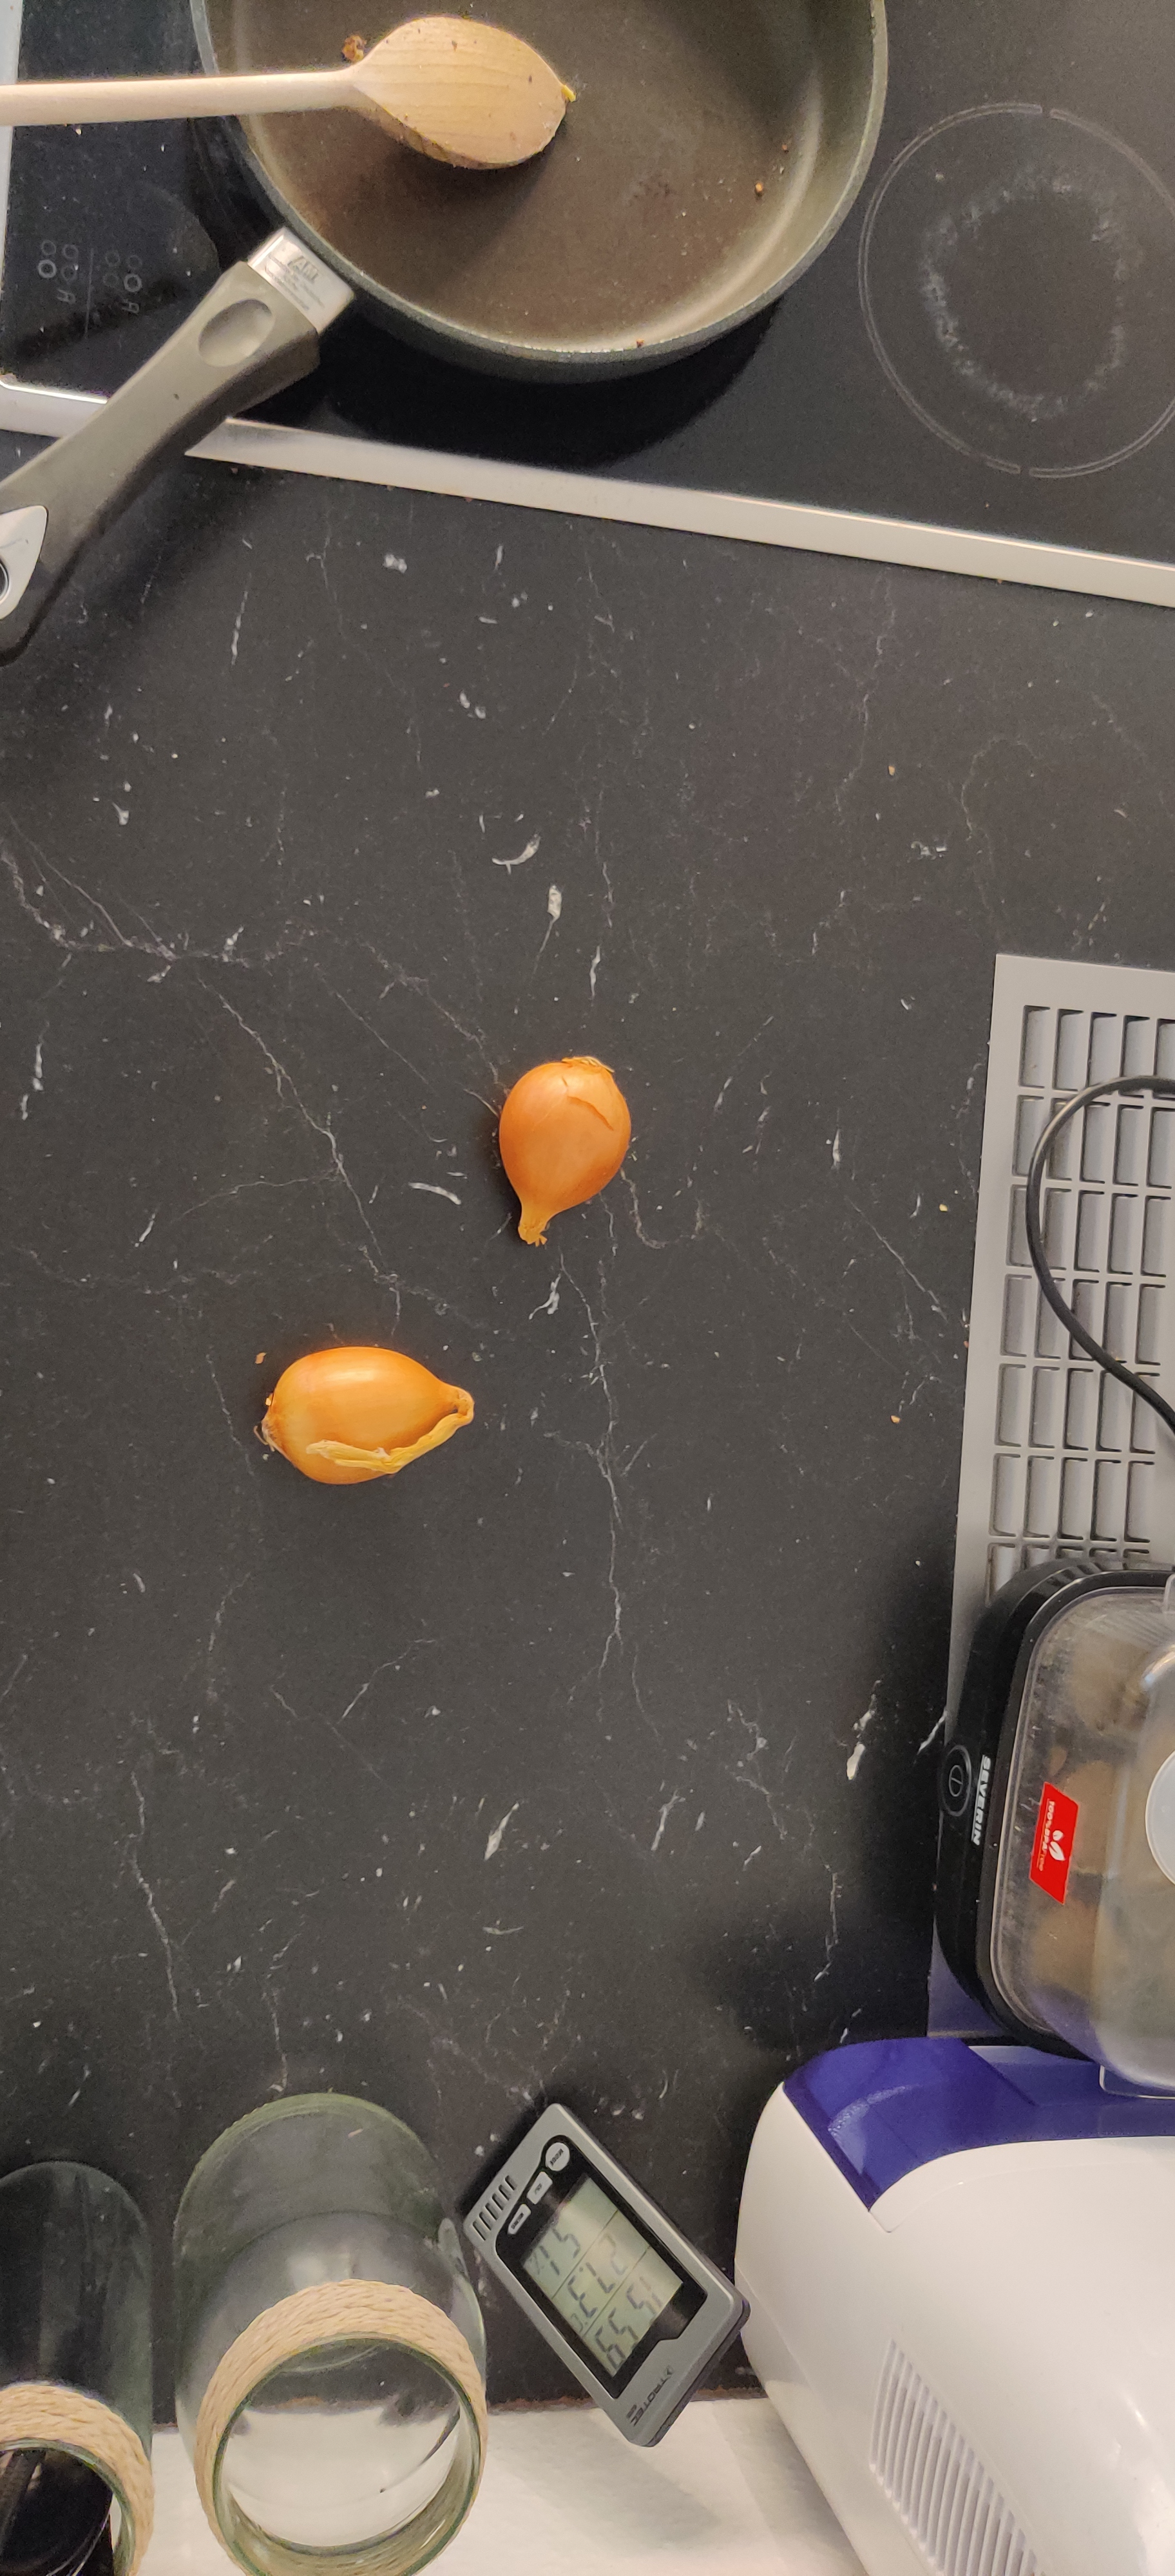Zwiebel: (256, 1347, 475, 1485), (495, 1055, 631, 1249)
